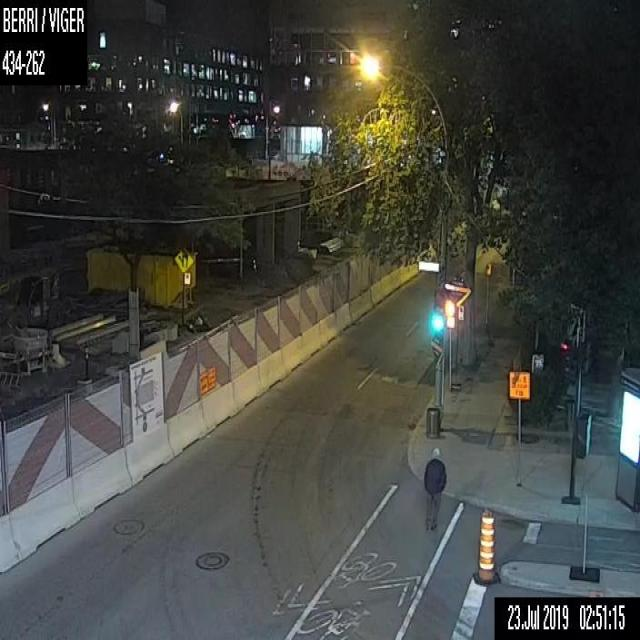construction: (0, 140, 422, 577), (508, 370, 530, 486), (472, 508, 499, 584)
pedestrian: (423, 446, 446, 530)
